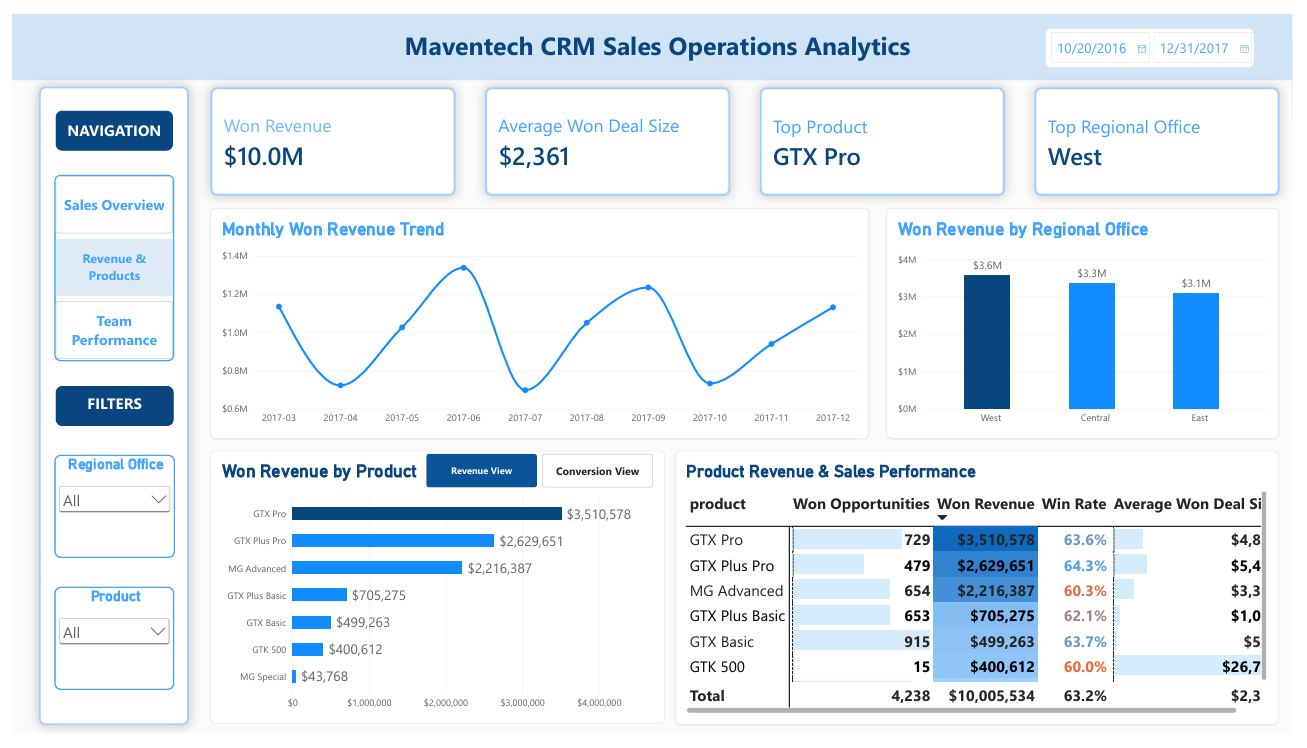

The page's visual inventory and layout, read from the dashboard file:
{"tool":"powerbi","page":{"name":"Revenue & Products ","canvas":[1920,1080],"ordinal":1},"visuals":[{"type":"shape","box":[0,0.9,1920,98.8],"z":0},{"type":"shape","box":[39.2,109.4,224.5,957.2],"z":1000},{"type":"textbox","box":[524.1,21.8,895.5,56.9],"z":2000},{"type":"cardVisual","fields":{"Data":["_Measures.Average Won Deal Size"]},"box":[707.6,110.2,368.1,163.2],"z":3000},{"type":"cardVisual","fields":{"Data":["_Measures.Top Product"]},"box":[1119.7,110.2,368.1,163.2],"z":4000},{"type":"cardVisual","fields":{"Data":["_Measures.Top Regional Office"]},"box":[1531.8,110.2,368.1,163.2],"z":5000},{"type":"cardVisual","fields":{"Data":["_Measures.Won Revenue"]},"box":[295.5,110.2,368.1,163.2],"z":6000},{"type":"slicer","fields":{"Values":["Calendar.Date"]},"box":[1548,21.2,313.8,59.9],"z":7000},{"type":"slicer","title":"Regional Office","fields":{"Values":["sales_teams.regional_office"]},"box":[62.1,661.2,180.5,155],"z":8000},{"type":"slicer","title":"Product","fields":{"Values":["products.product"]},"box":[62.4,859.4,180,155],"z":9000},{"type":"pageNavigator","box":[61.8,241.3,180,280],"z":10000},{"type":"textbox","box":[63.8,144.7,176,60],"z":11000},{"type":"clusteredBarChart","title":"Won Revenue by Product","fields":{"Category":["products.product"],"Y":["_Measures.Won Revenue"]},"box":[295.5,654.9,682.1,410.5],"z":12000},{"type":"clusteredColumnChart","title":"Won Revenue by Regional Office","fields":{"Category":["sales_teams.regional_office"],"Y":["_Measures.Won Revenue"]},"box":[1309.8,290.7,589.4,346.6],"z":13000},{"type":"lineChart","title":"Monthly Won Revenue Trend","fields":{"Category":["Calendar.Year_Month"],"Y":["_Measures.Won Revenue"]},"box":[295.5,290.7,988.8,346.6],"z":14000},{"type":"pivotTable","title":"Product Revenue & Sales Performance","fields":{"Rows":["products.product"],"Values":["_Measures.Won Opportunities","_Measures.Won Revenue","_Measures.Win Rate","_Measures.Average Won Deal Size"]},"box":[993.4,655.5,904.1,410.5],"z":15000},{"type":"textbox","box":[64,558,176.8,60],"z":16000},{"type":"actionButton","title":"Reset Filters","box":[56.6,24.3,180,50.6],"z":18000},{"type":"bookmarkNavigator","box":[636.7,660.6,327.3,51.9],"z":19000}]}

Visuals, with their boxes in screenshot pixels (x1, y1, x2, y2), scaled from the page's 1920x1080 canvas onto the 1307x748 screenshot:
shape: rect(0, 1, 1306, 69)
shape: rect(27, 76, 180, 739)
textbox: rect(357, 15, 966, 55)
cardVisual - _Measures.Average Won Deal Size: rect(482, 76, 732, 189)
cardVisual - _Measures.Top Product: rect(762, 76, 1013, 189)
cardVisual - _Measures.Top Regional Office: rect(1043, 76, 1293, 189)
cardVisual - _Measures.Won Revenue: rect(201, 76, 452, 189)
slicer - Calendar.Date: rect(1054, 15, 1267, 56)
"Regional Office" slicer: rect(42, 458, 165, 565)
"Product" slicer: rect(42, 595, 165, 703)
pageNavigator: rect(42, 167, 165, 361)
textbox: rect(43, 100, 163, 142)
"Won Revenue by Product" clusteredBarChart: rect(201, 454, 665, 738)
"Won Revenue by Regional Office" clusteredColumnChart: rect(892, 201, 1293, 441)
"Monthly Won Revenue Trend" lineChart: rect(201, 201, 874, 441)
"Product Revenue & Sales Performance" pivotTable: rect(676, 454, 1292, 738)
textbox: rect(44, 386, 164, 428)
"Reset Filters" actionButton: rect(39, 17, 161, 52)
bookmarkNavigator: rect(433, 458, 656, 493)
